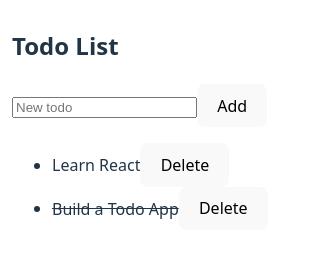
Test: adds a new todo item
# Simulate user typing and submitting the form
Type "Write Tests" into the field with test id "todo-input". click: (104,107)
box: [12,97,197,118]
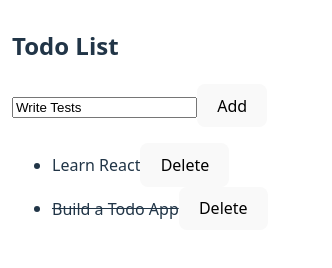
Click the button with test id "add-button". click: (232,106)
box: [197,84,267,127]
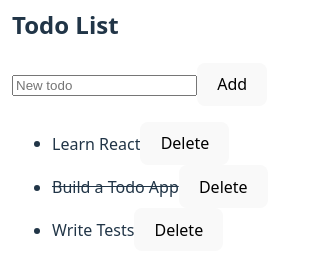
Expected: the list item "Write Tests Delete" is shown, [52,208,223,251]
